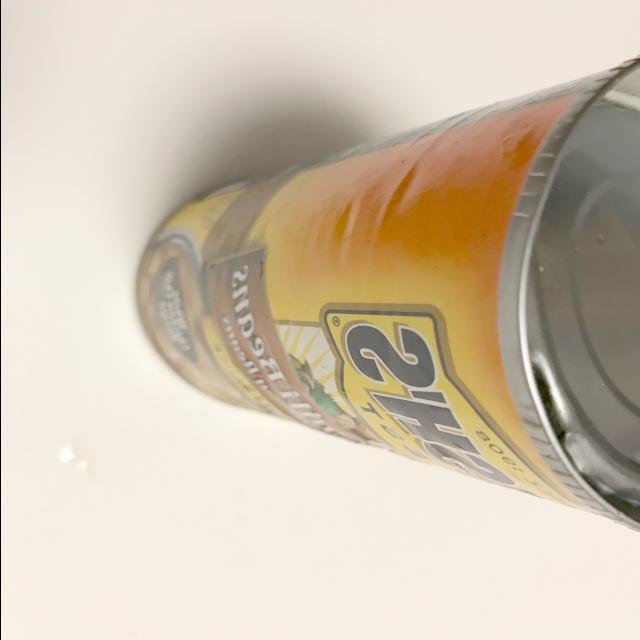Metal: (114, 33, 640, 540)
